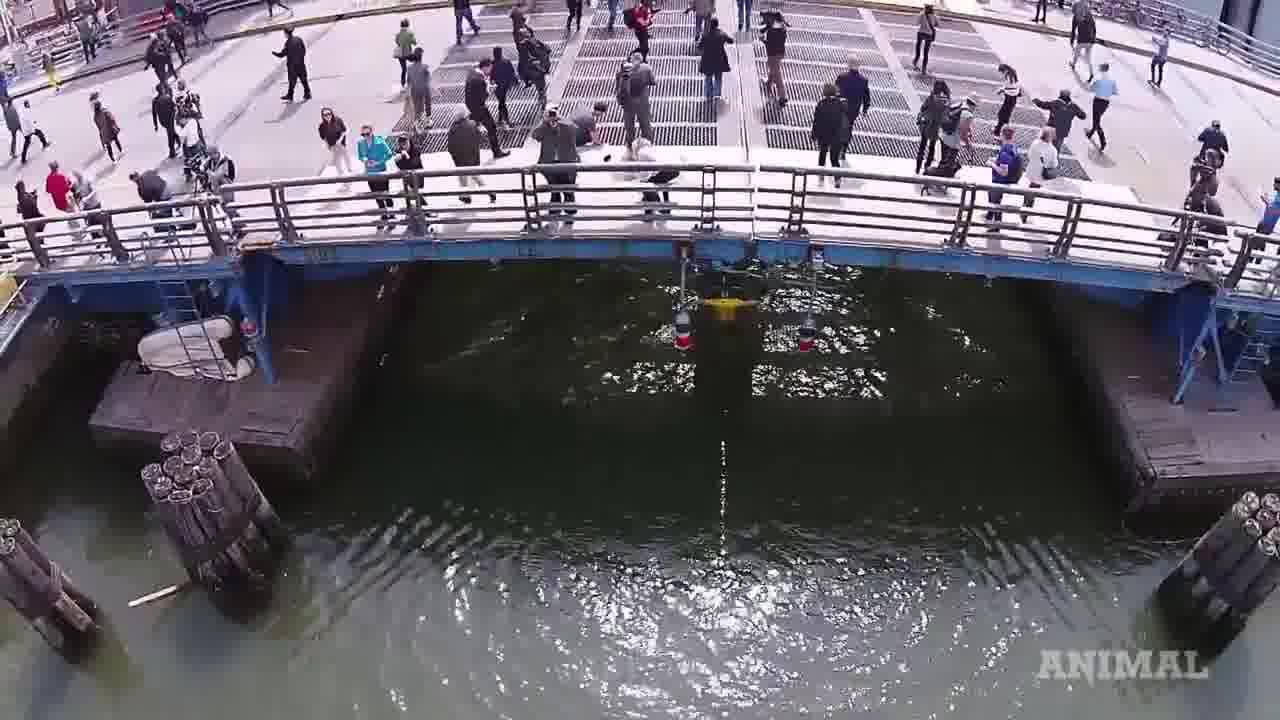swimmer: (697, 282, 752, 324)
